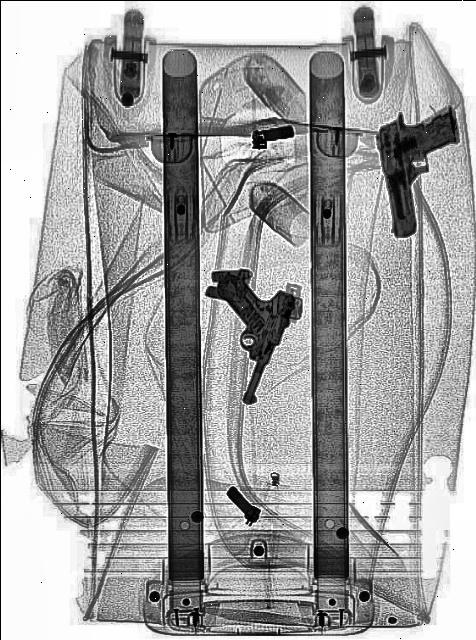Gun: (187, 258, 298, 407), (376, 96, 472, 237)
